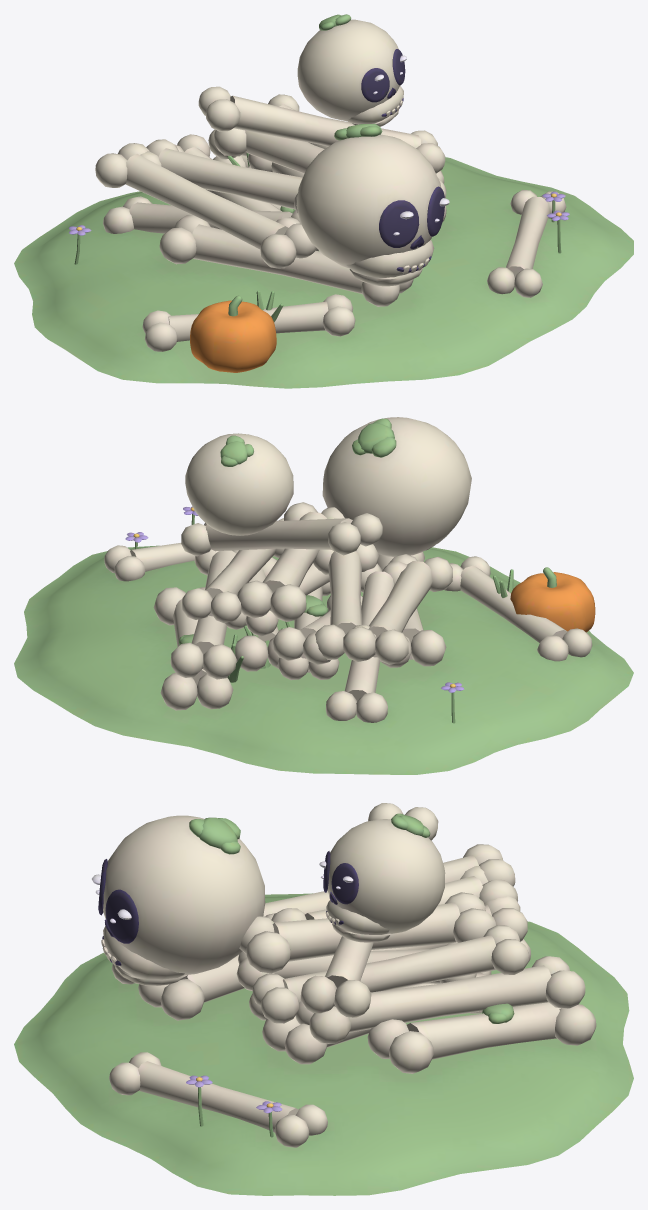
The model's file is bone-pile.obj.
The picture shows the model from 3 angles, top to bottom: view 1: azimuth 30°, elevation 25°; view 2: azimuth 150°, elevation 25°; view 3: azimuth 270°, elevation 25°; orthographic projection. The views are drawn at different scales.
Parts seen in each view (by area): view 1: bone-pile_body; view 2: bone-pile_body; view 3: bone-pile_body.
Part boxes in pixels (x1,y1,x2,y2): bone-pile_body: (14, 14, 633, 388); bone-pile_body: (14, 417, 633, 774); bone-pile_body: (14, 803, 633, 1195).
Size of the model in its own units: 0.7099 by 0.2825 by 0.6132.
Materials: 1 (1 with a texture image).
